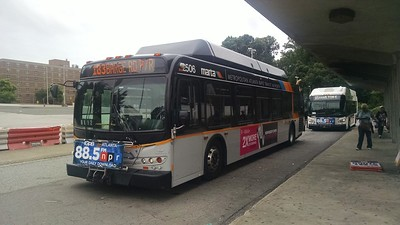bus: (65, 39, 304, 192), (304, 86, 358, 130)
